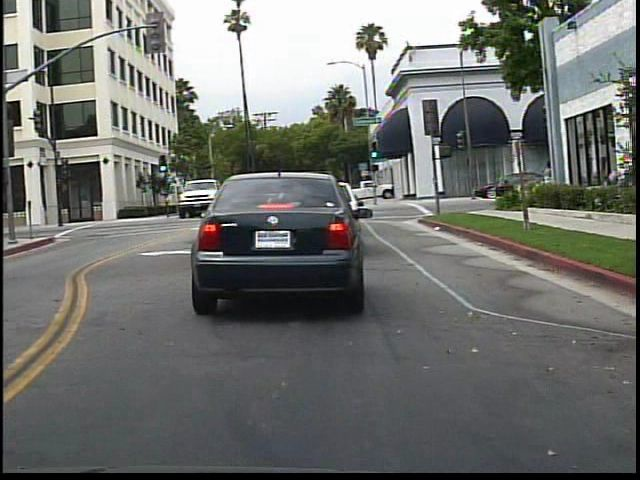person: (536, 157, 559, 205)
